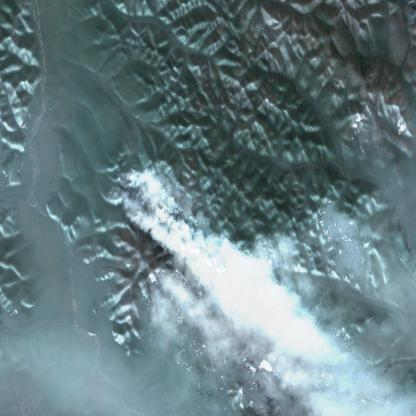fire: (101, 157, 172, 235)
